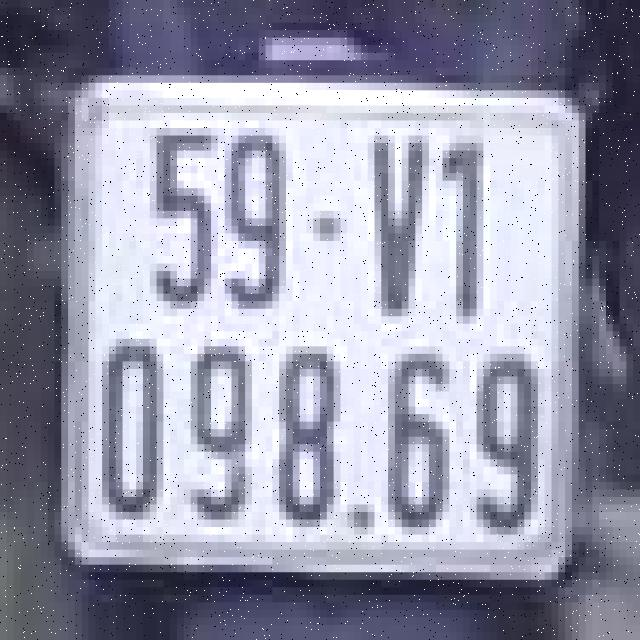0: (85, 323, 167, 534)
1: (432, 132, 508, 335)
5: (140, 117, 214, 320)
6: (368, 342, 456, 538)
8: (269, 342, 337, 538)
9: (221, 120, 296, 324), (470, 346, 544, 550), (180, 335, 256, 531)
V: (354, 116, 429, 328)
